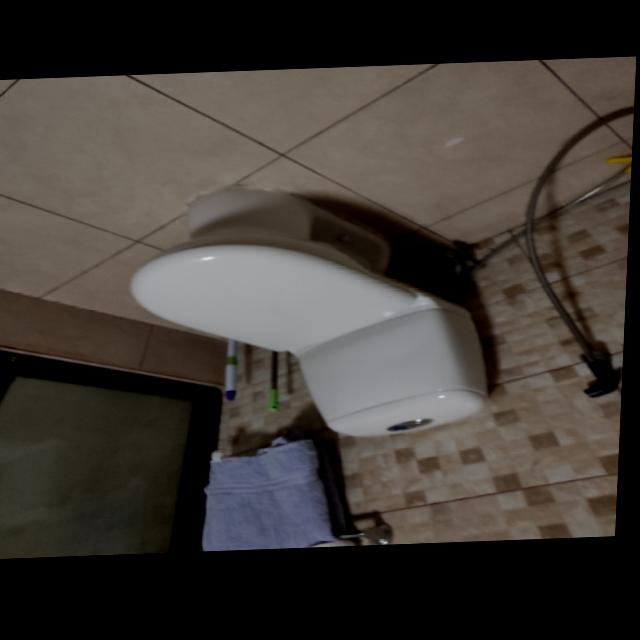toilet: (126, 182, 502, 449)
